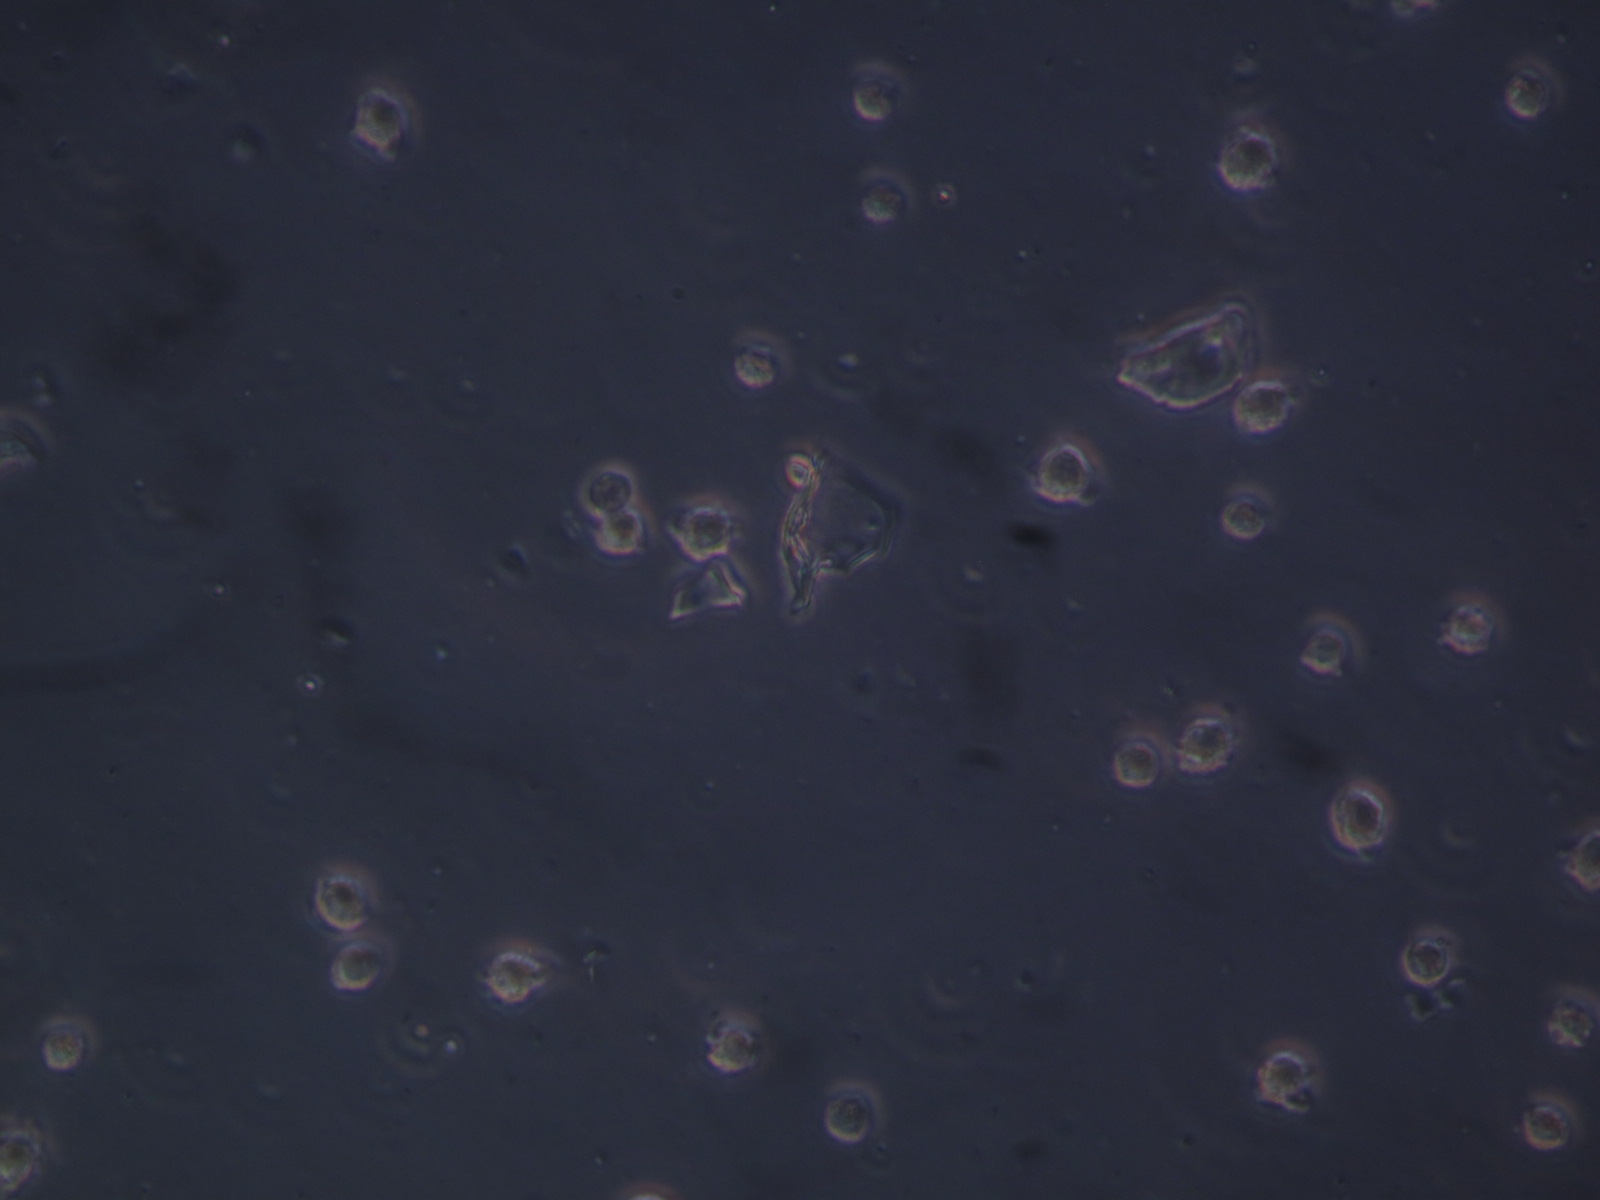hemo: (1294, 610, 1367, 678), (1034, 431, 1102, 503), (1440, 585, 1507, 655), (1330, 778, 1395, 850), (477, 935, 544, 1003), (706, 1007, 774, 1073), (316, 858, 377, 929), (1175, 702, 1235, 774), (824, 1076, 884, 1146), (674, 495, 736, 558), (351, 83, 409, 150), (1217, 130, 1279, 192), (1523, 1089, 1584, 1152), (38, 1012, 100, 1071), (1506, 55, 1563, 118), (1110, 726, 1168, 789), (1550, 982, 1599, 1053), (1233, 379, 1293, 436), (1256, 1037, 1309, 1100), (1403, 926, 1459, 986), (333, 938, 396, 989), (1221, 483, 1277, 539), (578, 459, 636, 514), (863, 165, 918, 223), (591, 507, 648, 561), (734, 337, 791, 389), (849, 64, 897, 120), (1, 1129, 40, 1196), (1569, 824, 1600, 894)
